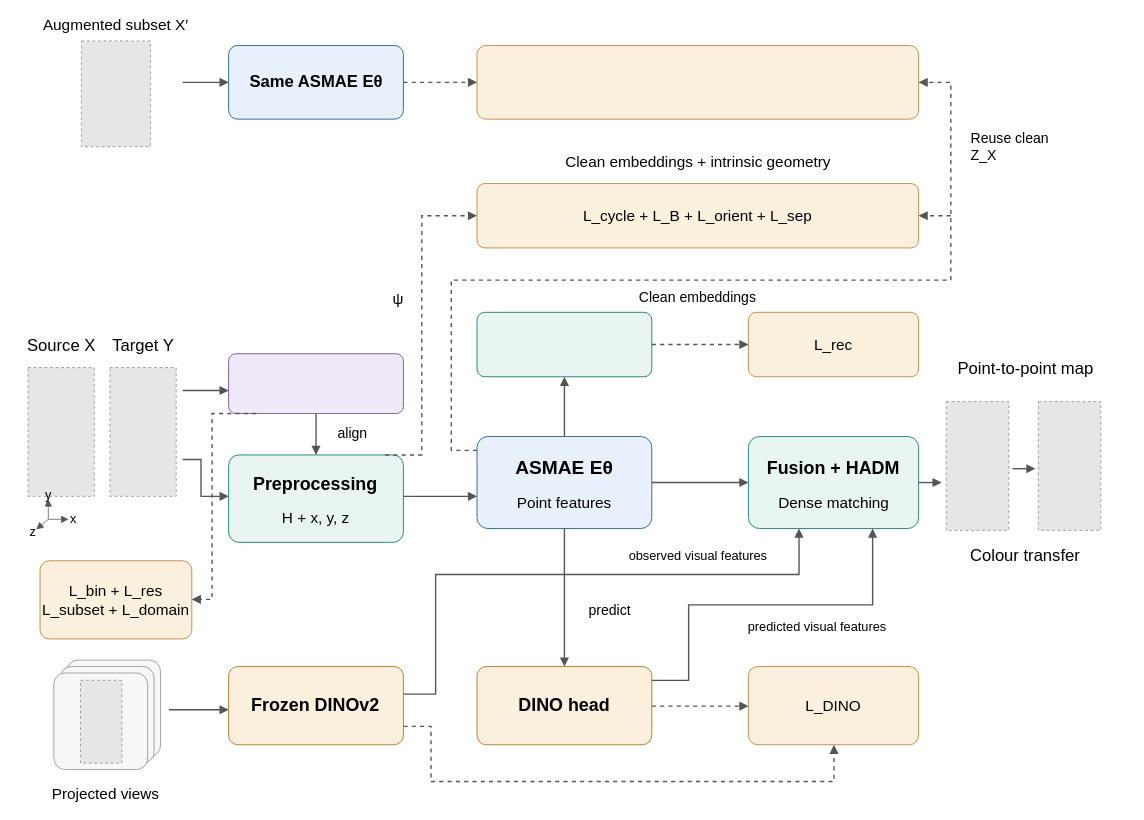
The diagram is 1144 pixels wide and 820 high, and some of its shapes have lost their labels. Grey dashed boxes stand in for pictures. Each missing label, with the box of its shape:
Cross-decoder: (476, 311, 652, 377)
L_self (original vertex identities): (476, 45, 919, 119)
Orientation: (228, 353, 404, 414)
